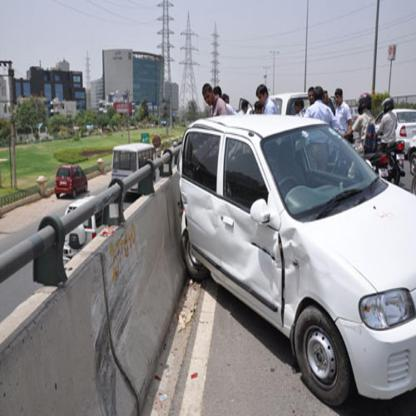face: (205, 93, 212, 107), (260, 95, 266, 105), (310, 93, 315, 104), (257, 108, 262, 118), (336, 96, 342, 104), (324, 94, 328, 104), (226, 101, 230, 109), (245, 106, 249, 114), (296, 106, 300, 114)
